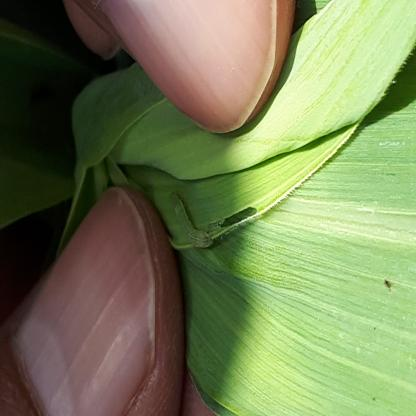armyworm: (95, 299, 127, 378)
